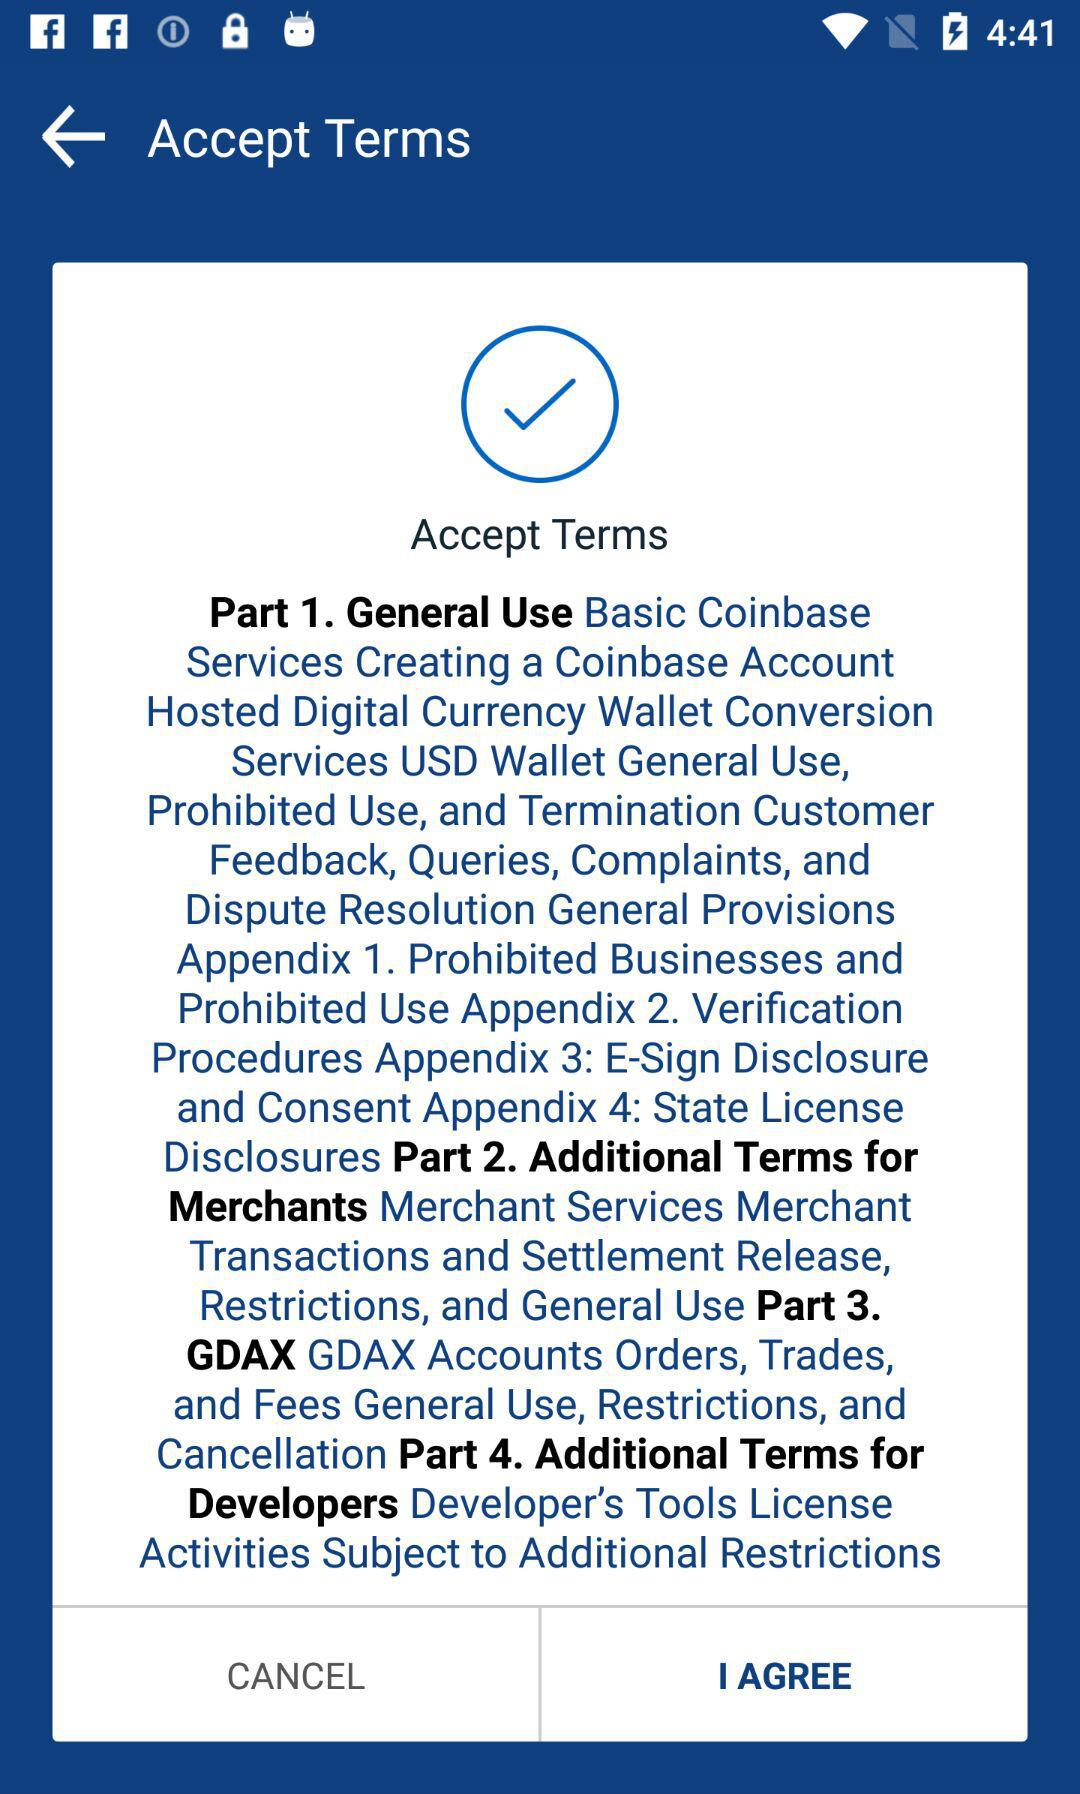Icon: (41, 103, 108, 170)
Image: (460, 325, 621, 486)
Text: (138, 595, 943, 1577), (146, 117, 471, 170), (410, 516, 669, 560)
TextButton: (53, 1606, 541, 1743), (542, 1606, 1027, 1743)
UpperTaskBar: (1, 1, 1080, 54)
